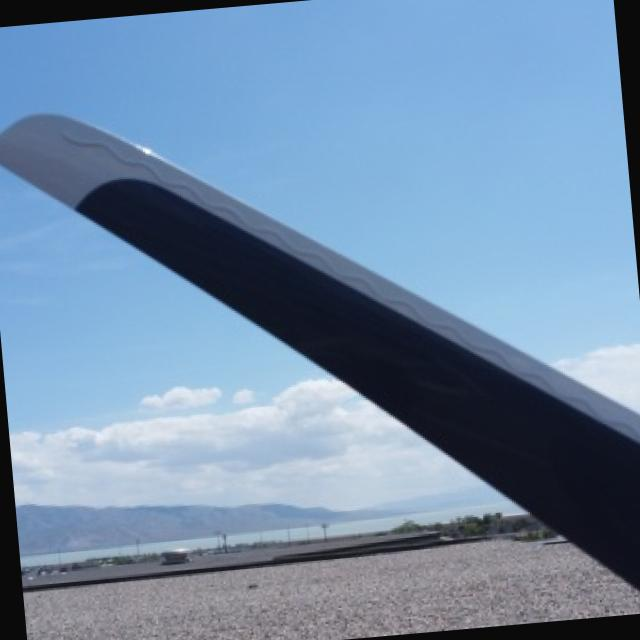healthy: (0, 112, 640, 586)
